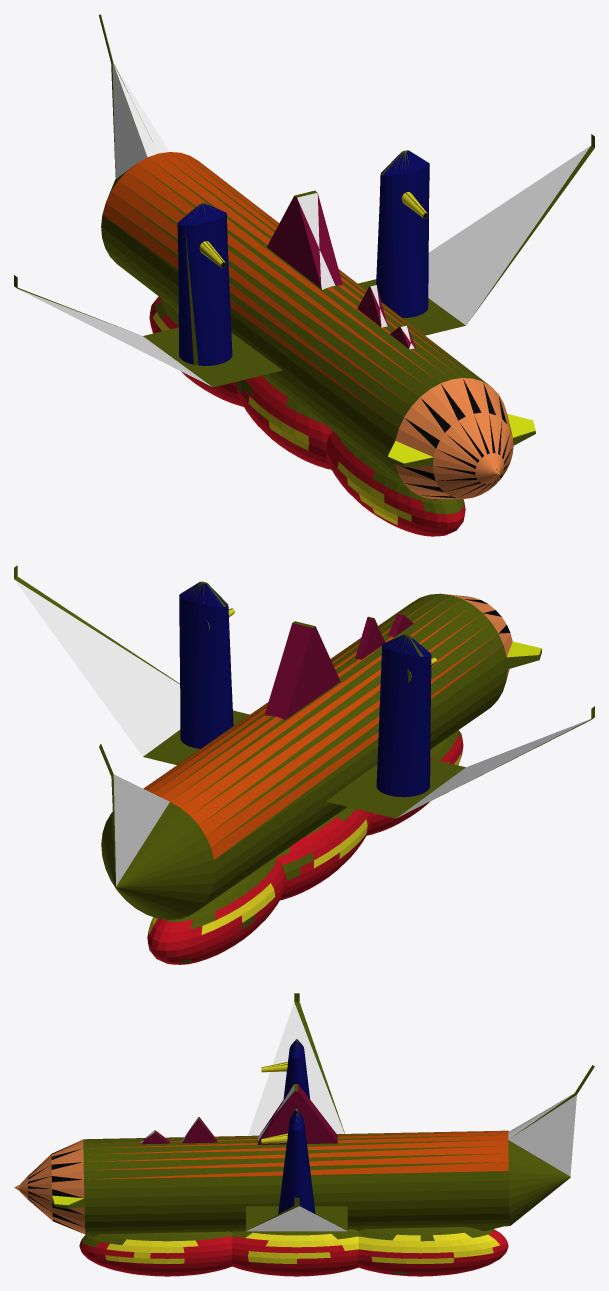
File: player.glb
3 renders of one model, top to bottom at view 1: azimuth 30°, elevation 25°; view 2: azimuth 150°, elevation 25°; view 3: azimuth 270°, elevation 25°, orthographic. The views are drawn at different scales.
Visible parts, largest first — view 1: Cube; view 2: Cube; view 3: Cube.
Part boxes in pixels (x1,y1,x2,y2): Cube: (14,14,594,536); Cube: (14,565,594,964); Cube: (14,993,594,1276).
Size of the model in its own units: 8.15 by 3.87 by 9.8.
